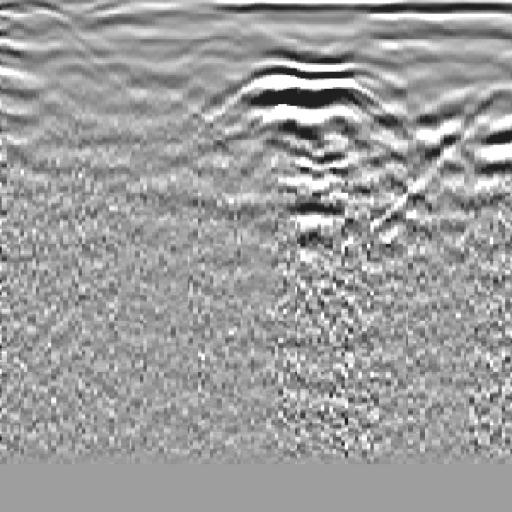metalic: (185, 54, 447, 157)
